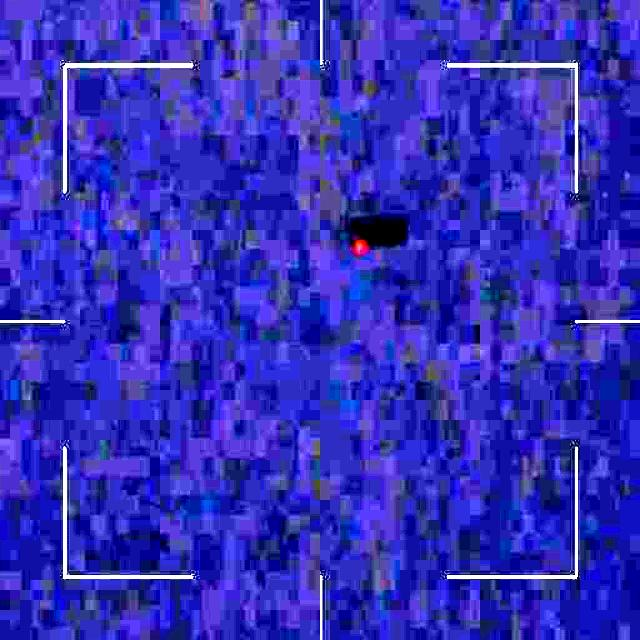bird: (346, 224, 375, 272)
